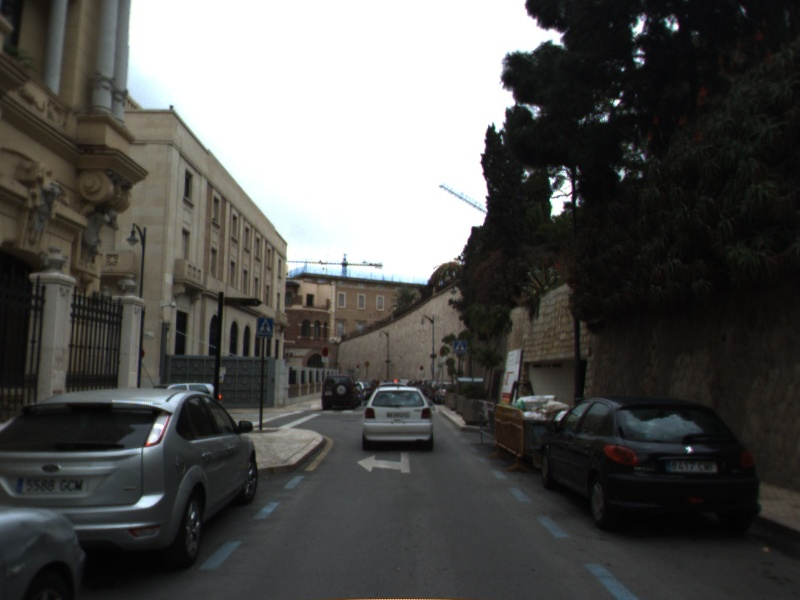STRAIGHT_LEFT: (355, 450, 412, 475)
